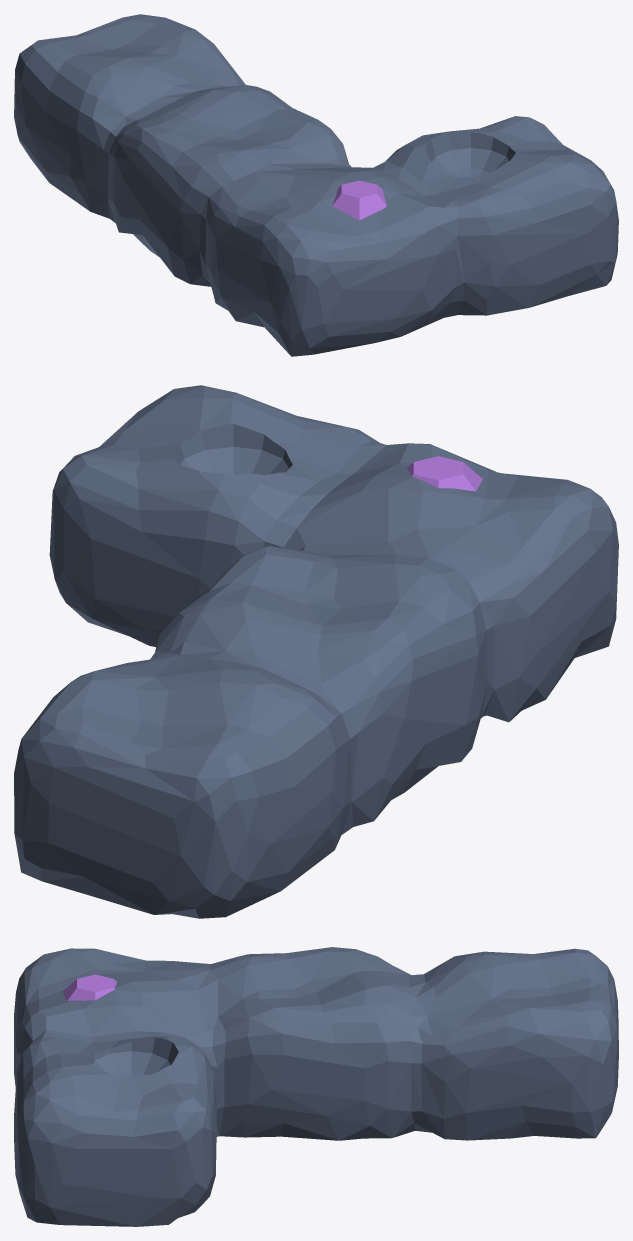
Rendered from AFJ_Asteroid_L.fbx.
3 renders of one model, top to bottom at view 1: azimuth 30°, elevation 25°; view 2: azimuth 150°, elevation 25°; view 3: azimuth 270°, elevation 25°, orthographic. The views are drawn at different scales.
Parts seen in each view (by area): view 1: Rock_L, Crystal_L; view 2: Rock_L, Crystal_L; view 3: Rock_L, Crystal_L.
Boxes of the visible parts, x1=… form: Rock_L: x1=14, y1=14, x2=618, y2=356; Crystal_L: x1=332, y1=180, x2=386, y2=220; Rock_L: x1=14, y1=385, x2=618, y2=918; Crystal_L: x1=407, y1=456, x2=482, y2=491; Rock_L: x1=14, y1=947, x2=618, y2=1226; Crystal_L: x1=62, y1=974, x2=116, y2=1000.
Size of the model in its own units: 201 by 70 by 301.
